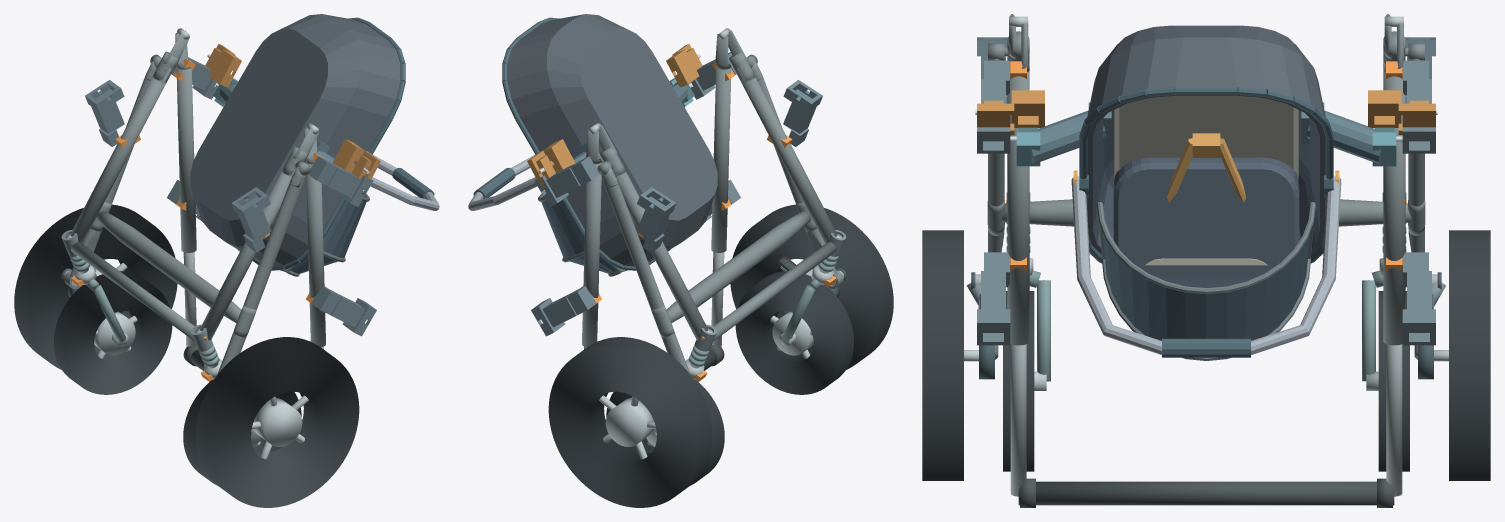
Rendered from S07_w650_state3_wheel_L.glb.
3 views of the same model, side by side, from view 1: azimuth 30°, elevation 25°; view 2: azimuth 150°, elevation 25°; view 3: azimuth 270°, elevation 25° (orthographic). The views are drawn at different scales.
Parts seen in each view (by area): view 1: S07_Cabin, RL_tire.008, FR_tire.008, RR_tire.008, V46_rearbar.009, main_lower_1.009, main_upper_1.009, V46_rear_leg_-1.009, main_upper_-1.009, main_lower_-1.009, front_fixed_round_tube.008, RL_sealed_hub.008 (+13 smaller); view 2: S07_Cabin, RR_tire.008, FL_tire.008, RL_tire.008, V46_rearbar.009, main_lower_-1.009, main_upper_-1.009, V46_rear_leg_1.009, main_upper_1.009, main_lower_1.009, front_fixed_round_tube.008, RR_sealed_hub.008 (+13 smaller); view 3: S07_Cabin, RL_tire.008, RR_tire.008, round_handle.008, S07_Cabin_Mount_M, main_upper_1.009, main_upper_-1.009, Universal_Cabin_Receiver_H_1, Universal_Cabin_Receiver_H_-1, FL_tire.008, FR_tire.008, handle_slider_1.008 (+10 smaller).
Boxes of the visible parts, x1,y1,x2,y2 form: S07_Cabin: [190, 14, 439, 276]; RL_tire.008: [195, 337, 359, 507]; FR_tire.008: [54, 271, 172, 394]; RR_tire.008: [14, 204, 177, 369]; V46_rearbar.009: [96, 211, 241, 322]; main_lower_1.009: [70, 68, 171, 243]; main_upper_1.009: [176, 67, 196, 252]; V46_rear_leg_-1.009: [217, 174, 305, 374]; main_upper_-1.009: [306, 162, 325, 347]; main_lower_-1.009: [200, 169, 295, 340]; front_fixed_round_tube.008: [71, 242, 194, 340]; RL_sealed_hub.008: [253, 398, 302, 446]; S07_Cabin: [468, 14, 717, 276]; RR_tire.008: [548, 337, 712, 507]; FL_tire.008: [735, 271, 853, 394]; RL_tire.008: [730, 204, 893, 369]; V46_rearbar.009: [666, 211, 811, 322]; main_lower_-1.009: [736, 68, 837, 243]; main_upper_-1.009: [711, 67, 731, 252]; V46_rear_leg_1.009: [602, 174, 690, 374]; main_upper_1.009: [582, 162, 601, 347]; main_lower_1.009: [612, 169, 707, 340]; front_fixed_round_tube.008: [713, 242, 836, 340]; RR_sealed_hub.008: [605, 398, 654, 446]; S07_Cabin: [1071, 25, 1341, 360]; RL_tire.008: [922, 230, 963, 480]; RR_tire.008: [1449, 230, 1490, 480]; round_handle.008: [1018, 481, 1394, 505]; S07_Cabin_Mount_M: [1010, 102, 1402, 166]; main_upper_1.009: [1383, 71, 1405, 345]; main_upper_-1.009: [1007, 71, 1029, 345]; Universal_Cabin_Receiver_H_1: [1402, 252, 1435, 345]; Universal_Cabin_Receiver_H_-1: [977, 252, 1010, 345]; FL_tire.008: [1003, 291, 1034, 471]; FR_tire.008: [1378, 291, 1409, 471]; handle_slider_1.008: [1386, 344, 1402, 496].
Size of the model in its own units: 0.7395 by 0.8587 by 0.8171.
